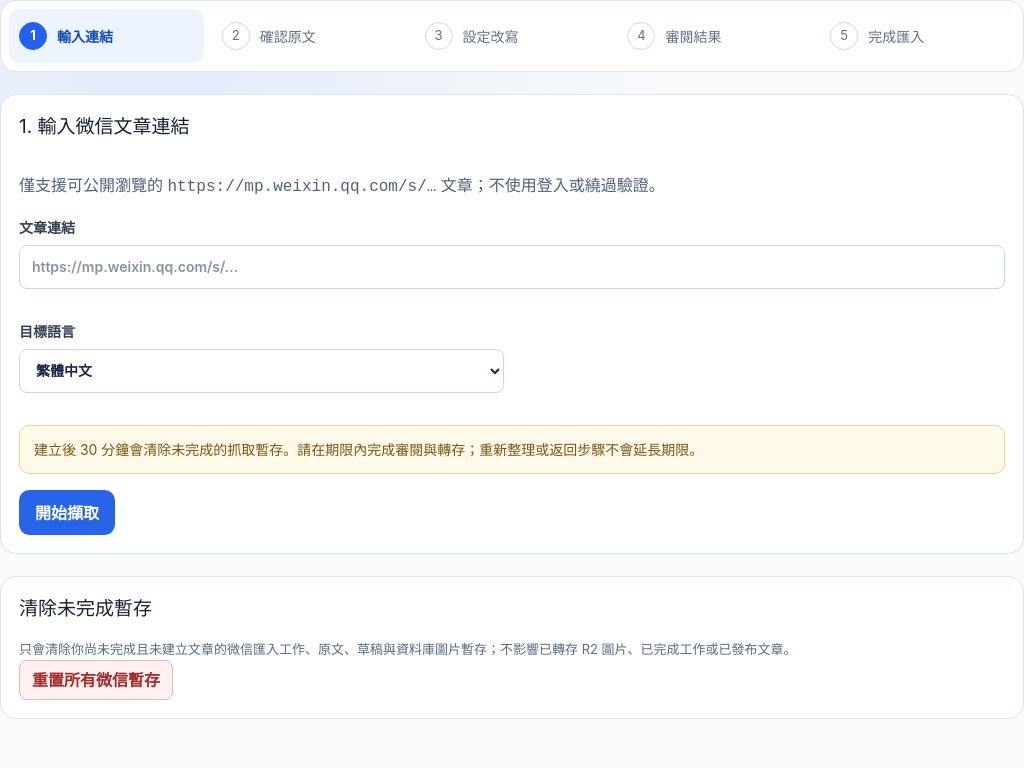
Test case: WeChat import starter › requires confirmation before clearing all unfinished WeChat staging work
Click the button "重置所有微信暫存" at point(96, 680), box [19,660,173,700]
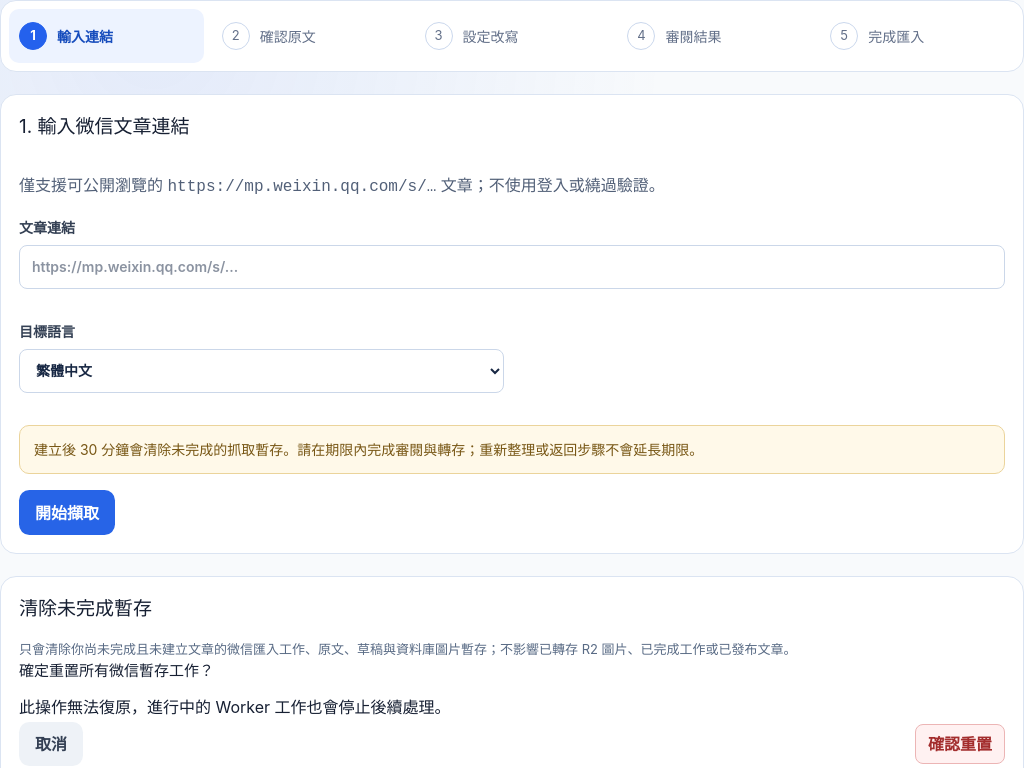
Expected: the dialog is shown, [19,660,1005,766]
Expected: the heading "確定重置所有微信暫存工作？" is shown, [19,661,214,680]
